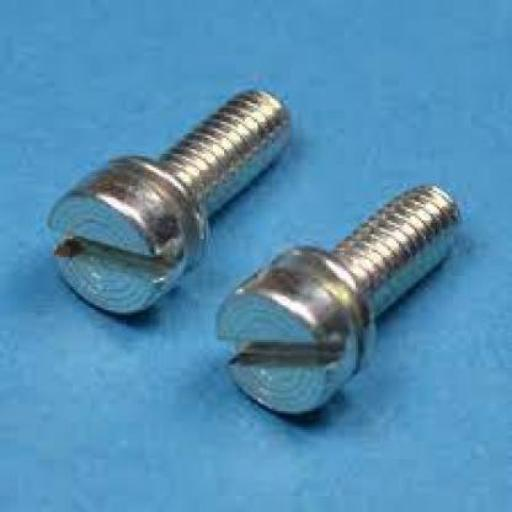Bolt: (215, 182, 462, 417), (45, 87, 291, 316)
